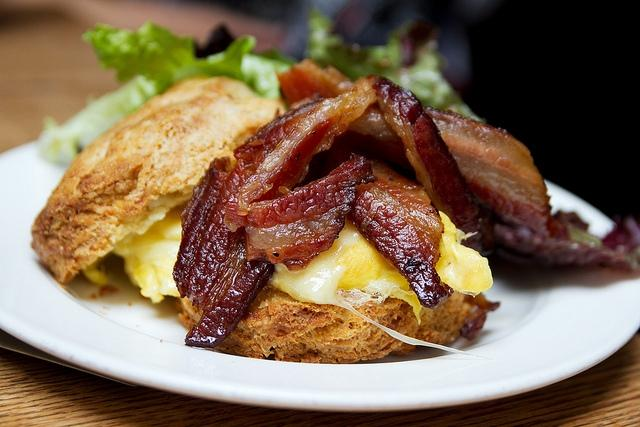lettuce: (81, 18, 297, 115), (36, 75, 159, 165), (382, 42, 486, 123)
